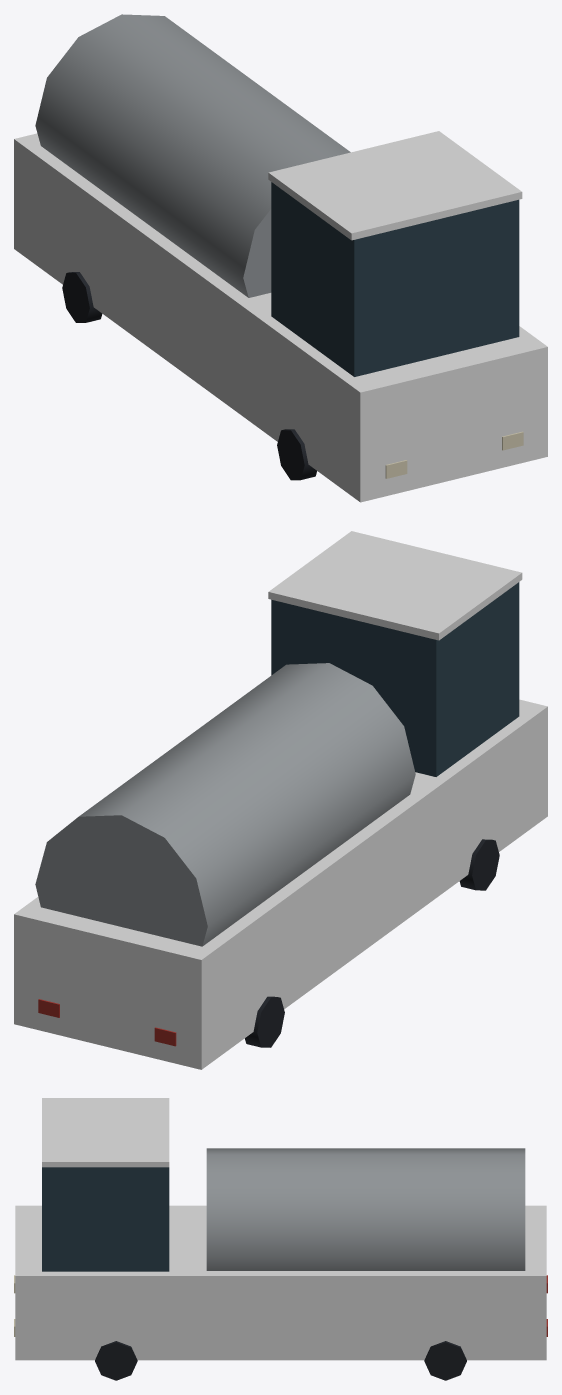
File: veh_truck_3.96b9a39ac404.glb
3 views of the same model, one above another, from view 1: azimuth 30°, elevation 25°; view 2: azimuth 150°, elevation 25°; view 3: azimuth 270°, elevation 25° (orthographic). The views are drawn at different scales.
Visible parts, largest first — view 1: LOD0; view 2: LOD0; view 3: LOD0.
Part boxes in pixels (x1,y1,x2,y2): LOD0: (14, 14, 547, 502); LOD0: (14, 531, 547, 1069); LOD0: (14, 1098, 547, 1380).
Size of what is drawn, in the model's own units: 2.6 by 3.56 by 8.04.
